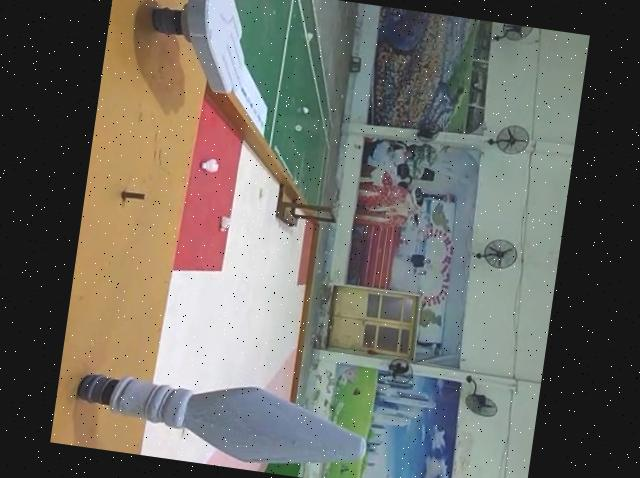Hand: (139, 0, 256, 96)
Sph: (61, 358, 379, 478)
